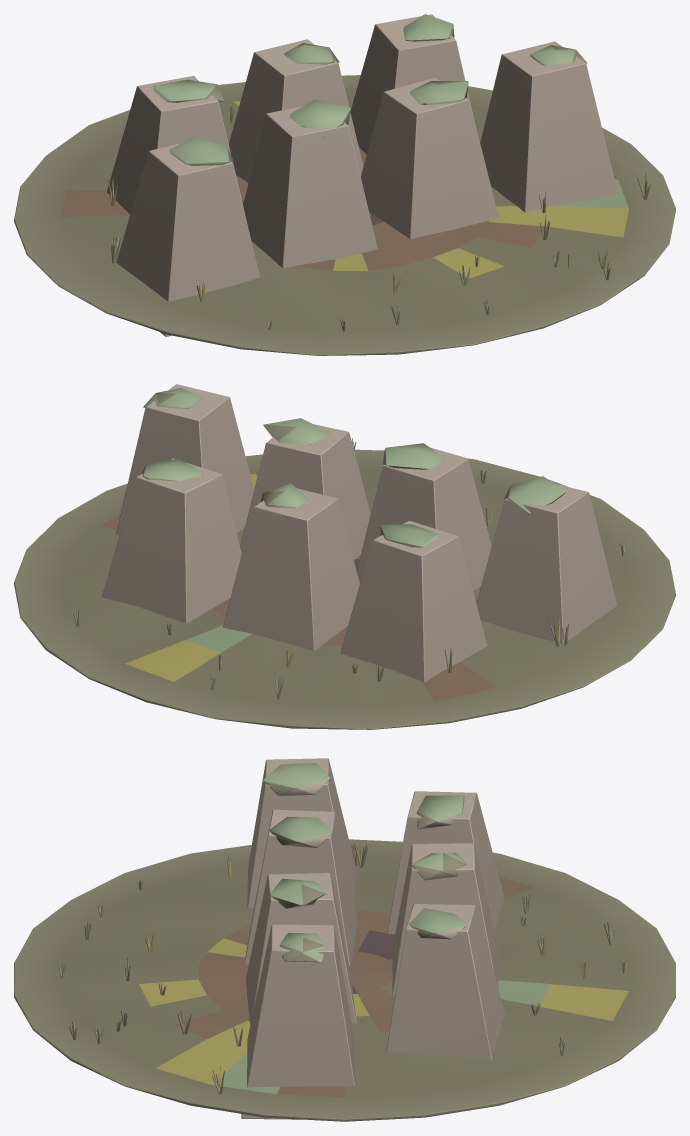
File: anti_tank_obstacles_v2.glb
The picture shows the model from 3 angles, top to bottom: view 1: azimuth 30°, elevation 25°; view 2: azimuth 150°, elevation 25°; view 3: azimuth 270°, elevation 25°; orthographic projection.
Parts seen in each view (by area): view 1: Body; view 2: Body; view 3: Body.
Boxes of the visible parts, x1,y1,x2,y2 form: Body: (14, 14, 675, 355); Body: (14, 384, 675, 729); Body: (14, 758, 675, 1121).
Size of the model in its own units: 1.06 by 0.2908 by 1.06.
